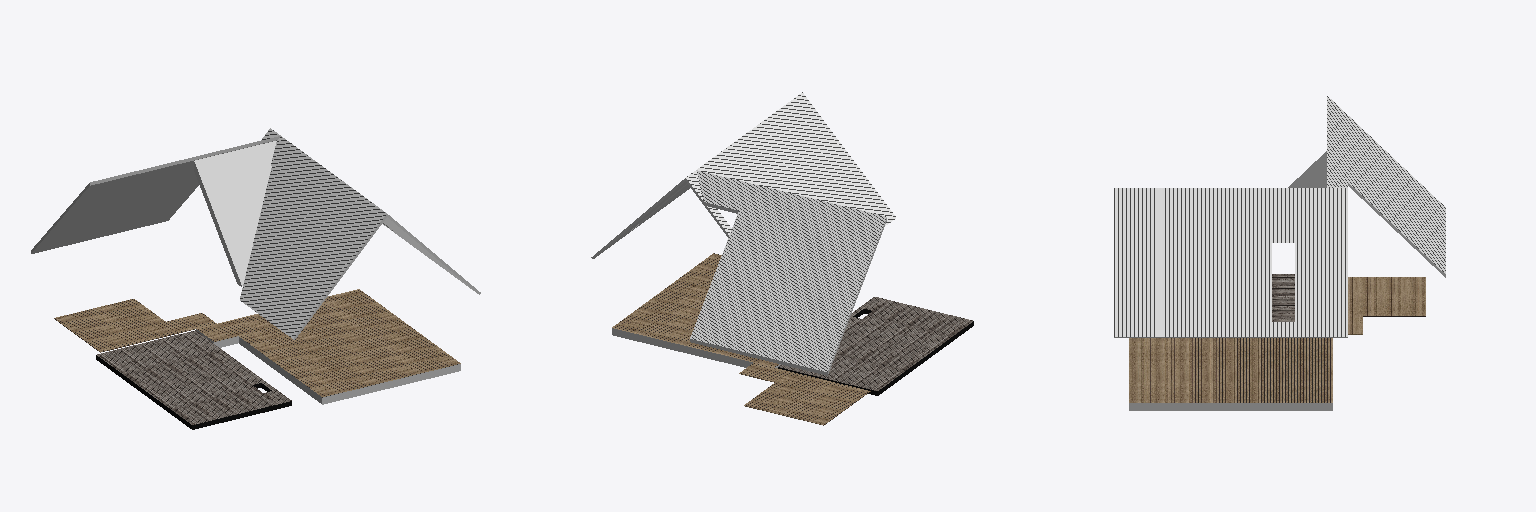
3 renders of one model, left to right at view 1: azimuth 30°, elevation 25°; view 2: azimuth 150°, elevation 25°; view 3: azimuth 270°, elevation 25°, orthographic.
Parts seen in each view (by area): view 1: UNITY_Plafond_Planche_Cedre, UNITY_Taule_4"_90deg, UNITY_Gris, UNITY_Plancher_Bois_Gris_90deg, UNITY_Blanc, UNITY_Aluminex_Frame; view 2: UNITY_Taule_4"_90deg, UNITY_Plafond_Planche_Cedre, UNITY_Plancher_Bois_Gris_90deg, UNITY_Gris, UNITY_Aluminex_Frame; view 3: UNITY_Taule_4"_90deg, UNITY_Plafond_Planche_Cedre, UNITY_Gris, UNITY_Plancher_Bois_Gris_90deg, UNITY_Blanc.
Part boxes in pixels (left/top/right/bottom): UNITY_Plafond_Planche_Cedre: left=54, top=289, right=460, bottom=397; UNITY_Taule_4"_90deg: left=240, top=128, right=386, bottom=338; UNITY_Gris: left=31, top=136, right=480, bottom=404; UNITY_Plancher_Bois_Gris_90deg: left=97, top=330, right=291, bottom=424; UNITY_Blanc: left=194, top=141, right=276, bottom=285; UNITY_Aluminex_Frame: left=96, top=355, right=291, bottom=429; UNITY_Taule_4"_90deg: left=686, top=92, right=895, bottom=371; UNITY_Plafond_Planche_Cedre: left=612, top=253, right=870, bottom=425; UNITY_Plancher_Bois_Gris_90deg: left=779, top=297, right=972, bottom=390; UNITY_Gris: left=591, top=178, right=890, bottom=375; UNITY_Aluminex_Frame: left=778, top=309, right=973, bottom=395; UNITY_Taule_4"_90deg: left=1114, top=96, right=1445, bottom=336; UNITY_Plafond_Planche_Cedre: left=1129, top=277, right=1425, bottom=402; UNITY_Gris: left=1114, top=183, right=1445, bottom=410; UNITY_Plancher_Bois_Gris_90deg: left=1272, top=274, right=1294, bottom=321; UNITY_Blanc: left=1288, top=151, right=1326, bottom=187.
Size of the model in its own units: 41.1 by 25.17 by 41.37.
Materials: 8 (3 with a texture image).